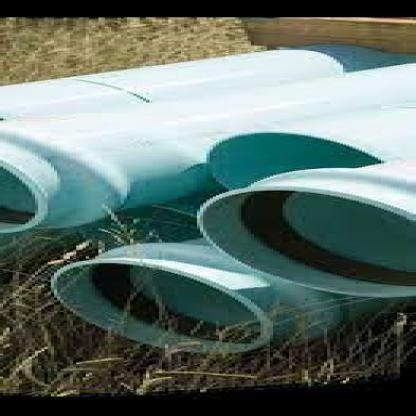PVC: (2, 43, 413, 355)
